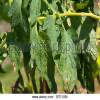Tomato Septoria leaf spot: (28, 20, 56, 94), (58, 25, 82, 95), (69, 12, 98, 64), (44, 14, 62, 60), (4, 29, 21, 77)
